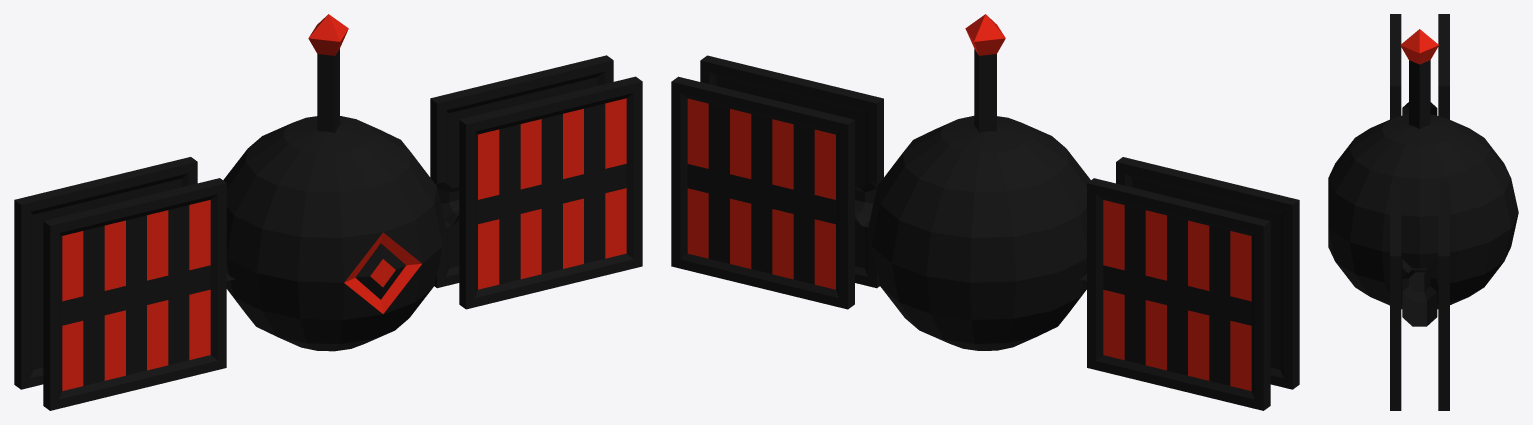
File: drone.fbx
The picture shows the model from 3 angles, left to right: view 1: azimuth 30°, elevation 25°; view 2: azimuth 150°, elevation 25°; view 3: azimuth 270°, elevation 25°; orthographic projection. The views are drawn at different scales.
Parts seen in each view (by area): view 1: right_arm, drone_body, left_arrn; view 2: right_arm, left_arrn, drone_body; view 3: drone_body, left_arrn, right_arm.
Part boxes in pixels (x1,y1,x2,y2): right_arm: (14, 157, 235, 410); drone_body: (223, 14, 445, 351); left_arrn: (430, 55, 642, 309); right_arm: (1079, 157, 1299, 410); left_arrn: (671, 55, 883, 309); drone_body: (868, 14, 1090, 350); drone_body: (1328, 29, 1518, 309); left_arrn: (1390, 184, 1449, 410); right_arm: (1390, 14, 1449, 119).
Bounding box in the file's own units: 579 × 305 × 192.
